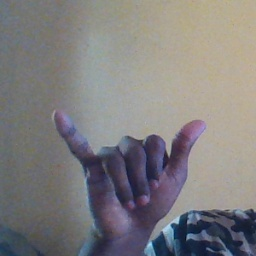J: (48, 98, 221, 232)
